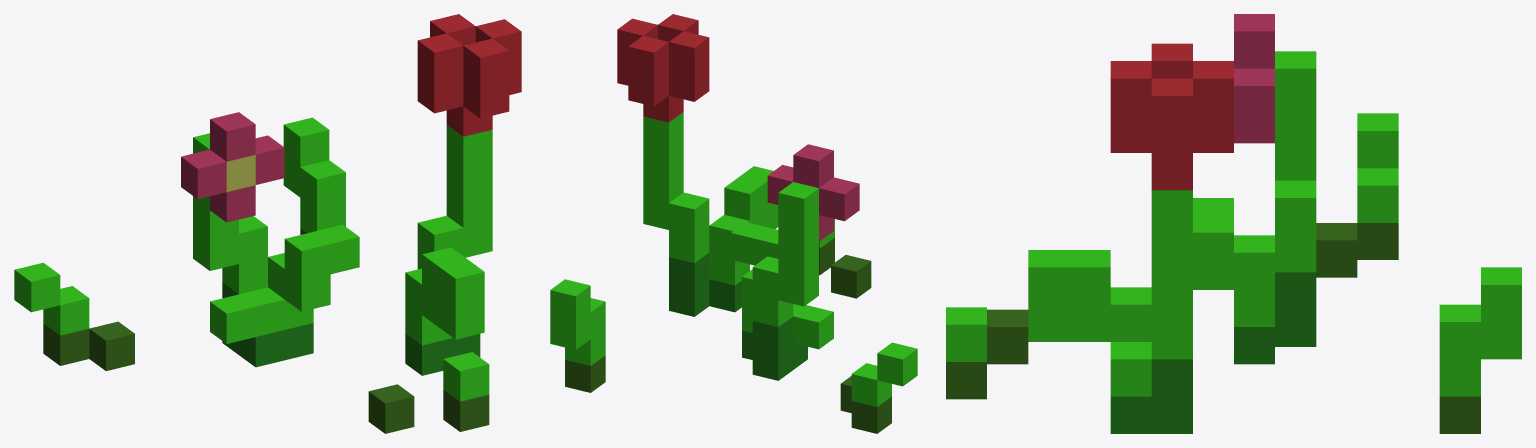
Rendered from Bloem6.fbx.
The picture shows the model from 3 angles, left to right: view 1: azimuth 30°, elevation 25°; view 2: azimuth 150°, elevation 25°; view 3: azimuth 270°, elevation 25°; orthographic projection. The views are drawn at different scales.
Parts seen in each view (by area): view 1: Bloem6:Bloem6; view 2: Bloem6:Bloem6; view 3: Bloem6:Bloem6.
Boxes of the visible parts, left/top/right/bottom form: Bloem6:Bloem6: left=14, top=14, right=521, bottom=433; Bloem6:Bloem6: left=550, top=14, right=917, bottom=433; Bloem6:Bloem6: left=946, top=14, right=1521, bottom=433.
Size of the model in its own units: 14 by 10 by 14.
Materials: 1 (1 with a texture image).
